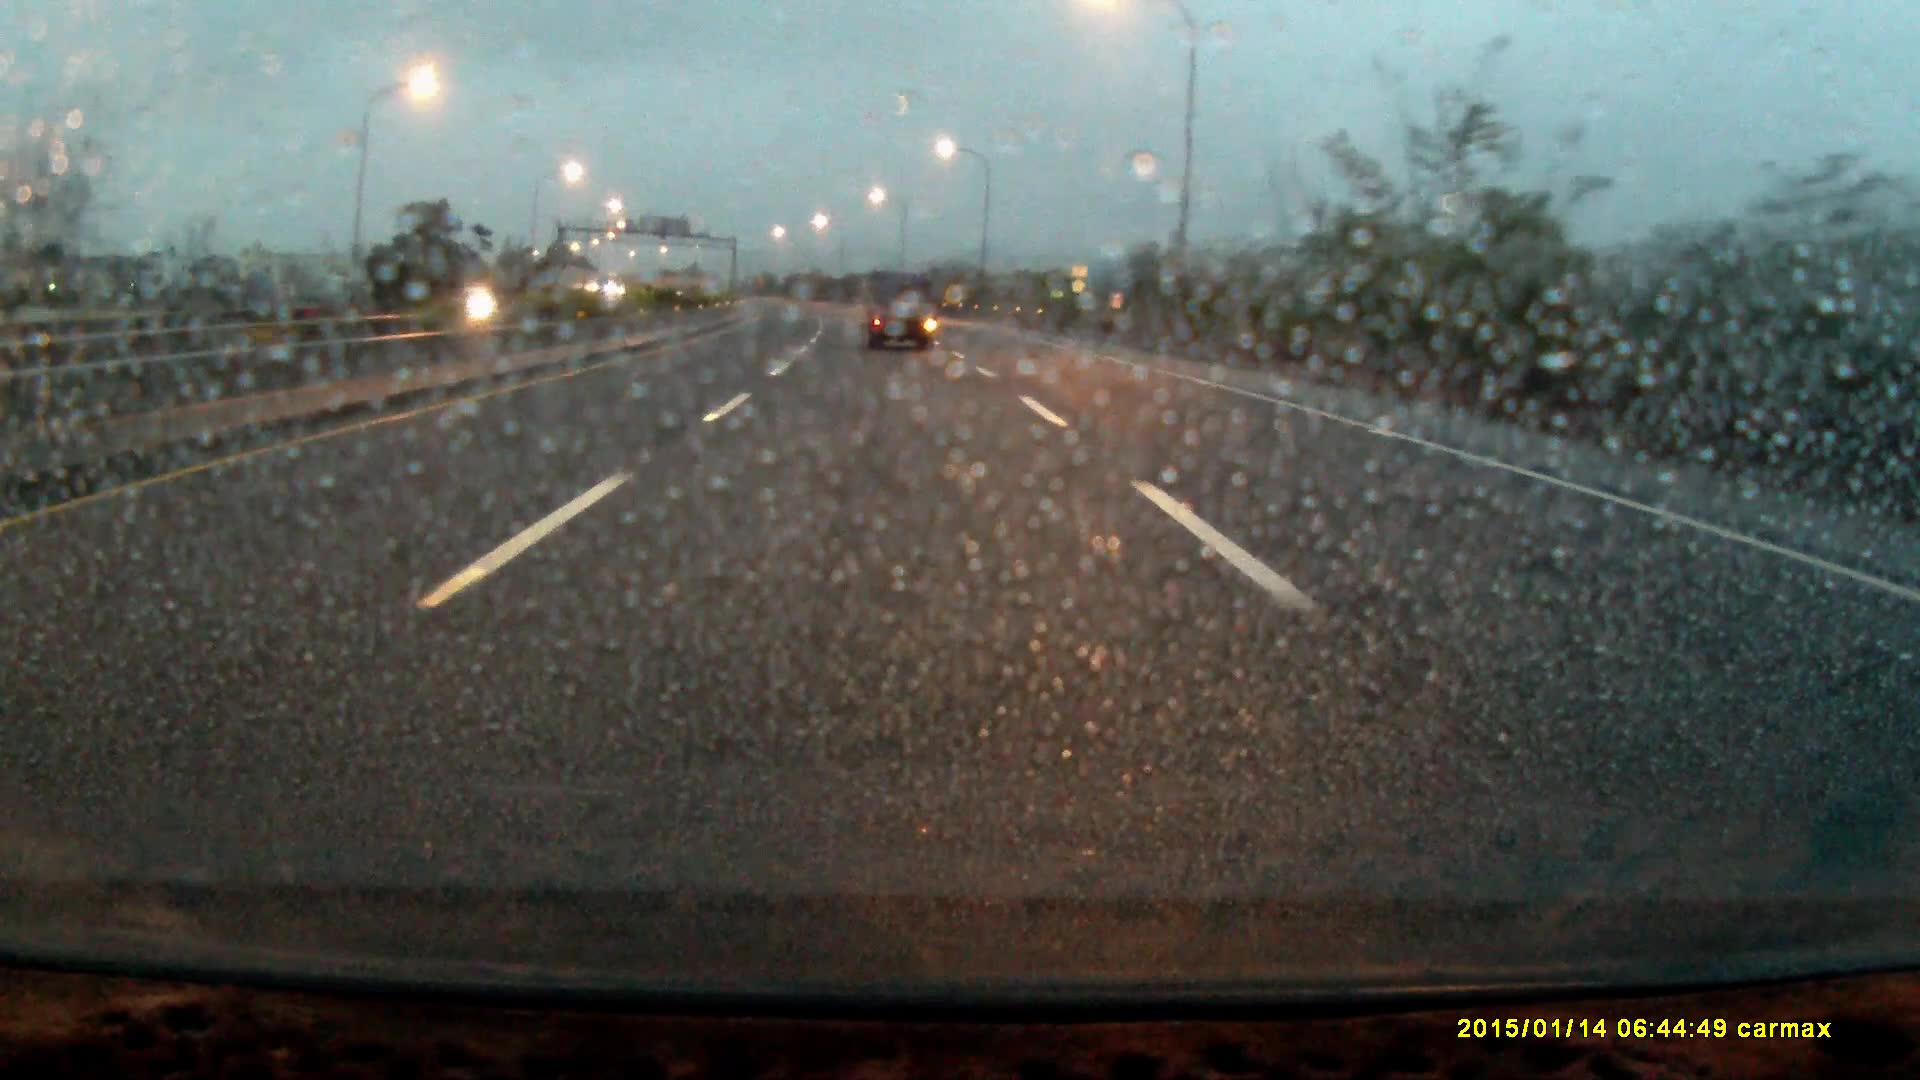vehicle: (864, 269, 935, 352), (443, 284, 512, 320)
